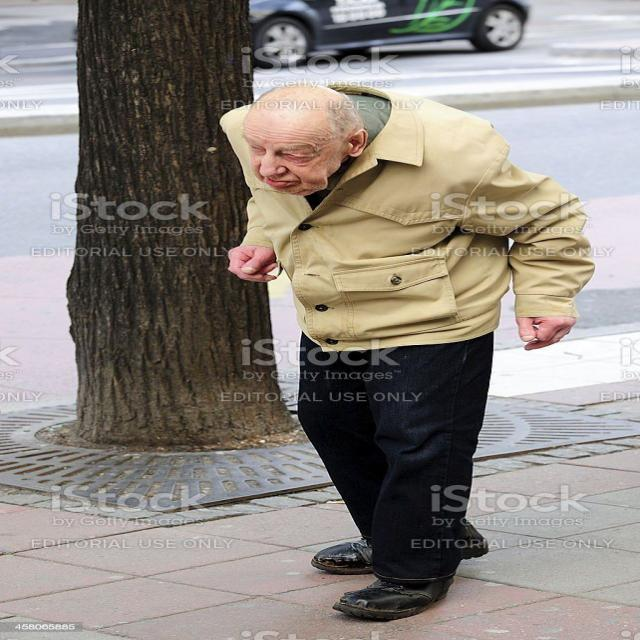idoso em pe: (175, 77, 576, 614)
